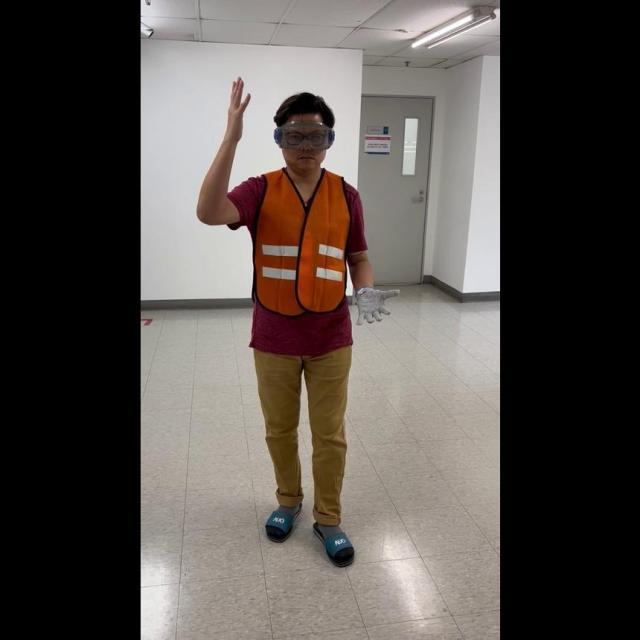bare_hand: (220, 71, 250, 150)
gloved_hand: (348, 282, 394, 325)
